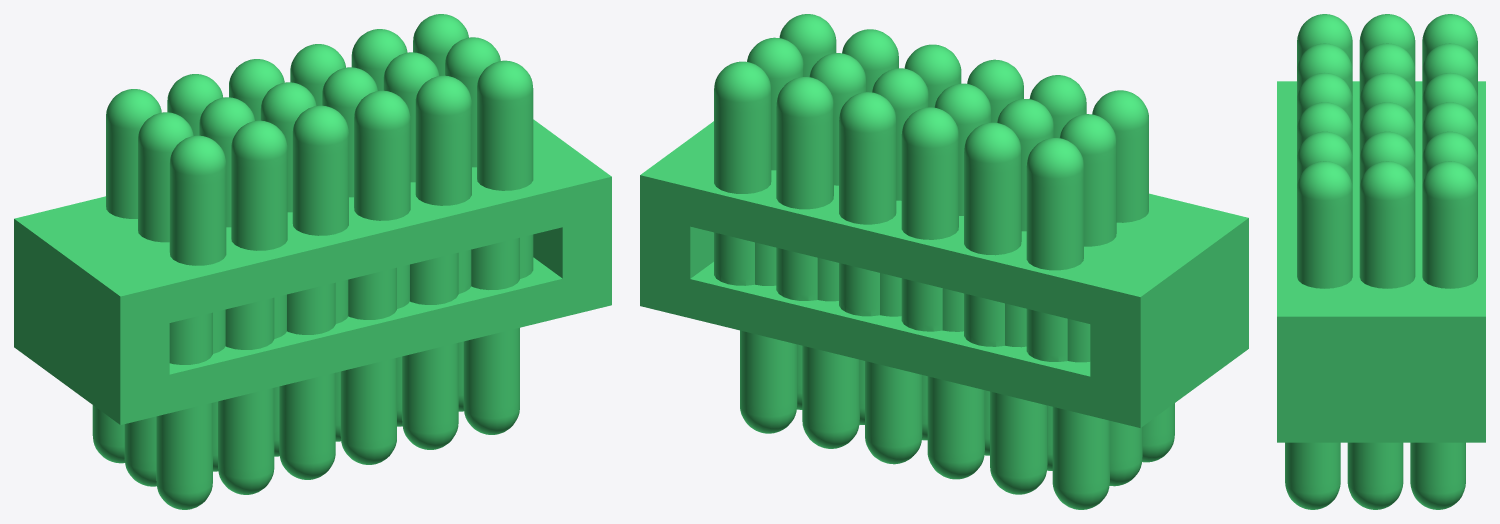
The model's file is torus-difficult.obj.
3 views of the same model, side by side, from view 1: azimuth 30°, elevation 25°; view 2: azimuth 150°, elevation 25°; view 3: azimuth 270°, elevation 25° (orthographic). The views are drawn at different scales.
Visible parts, largest first — view 1: pSphere23; view 2: pSphere23; view 3: pSphere23.
Boxes of the visible parts, left/top/right/bottom form: pSphere23: left=14, top=14, right=611, bottom=509; pSphere23: left=640, top=14, right=1248, bottom=509; pSphere23: left=1277, top=14, right=1485, bottom=509.
Bounding box in the file's own units: 40 × 27.99 × 15.
